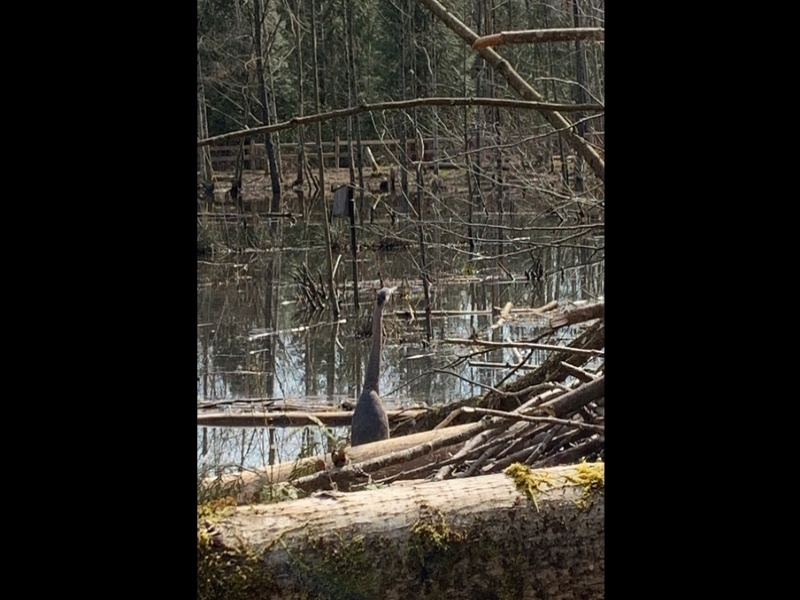heron: (345, 283, 399, 446)
